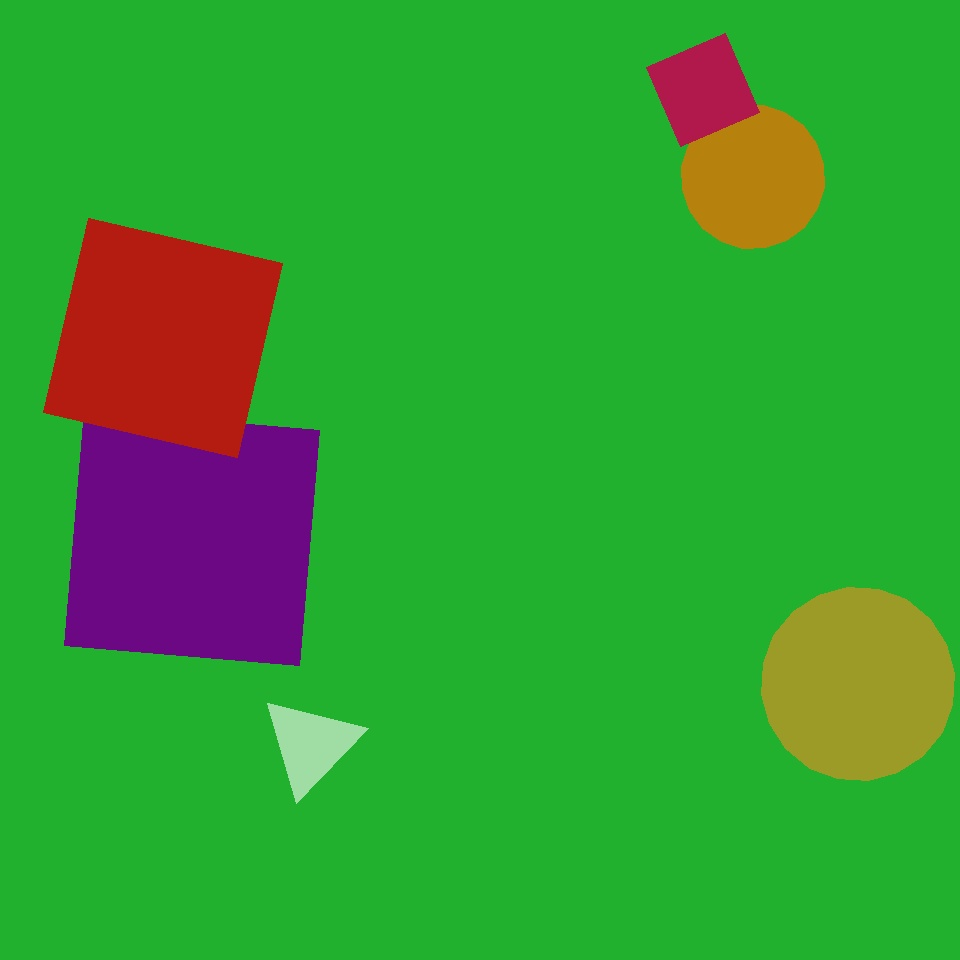circle: (260, 695, 362, 795)
square: (45, 579, 362, 896), (65, 410, 320, 666), (44, 219, 283, 458), (646, 34, 760, 146)
triangle: (166, 548, 529, 911), (322, 431, 596, 706), (762, 588, 955, 780), (682, 106, 824, 248)
